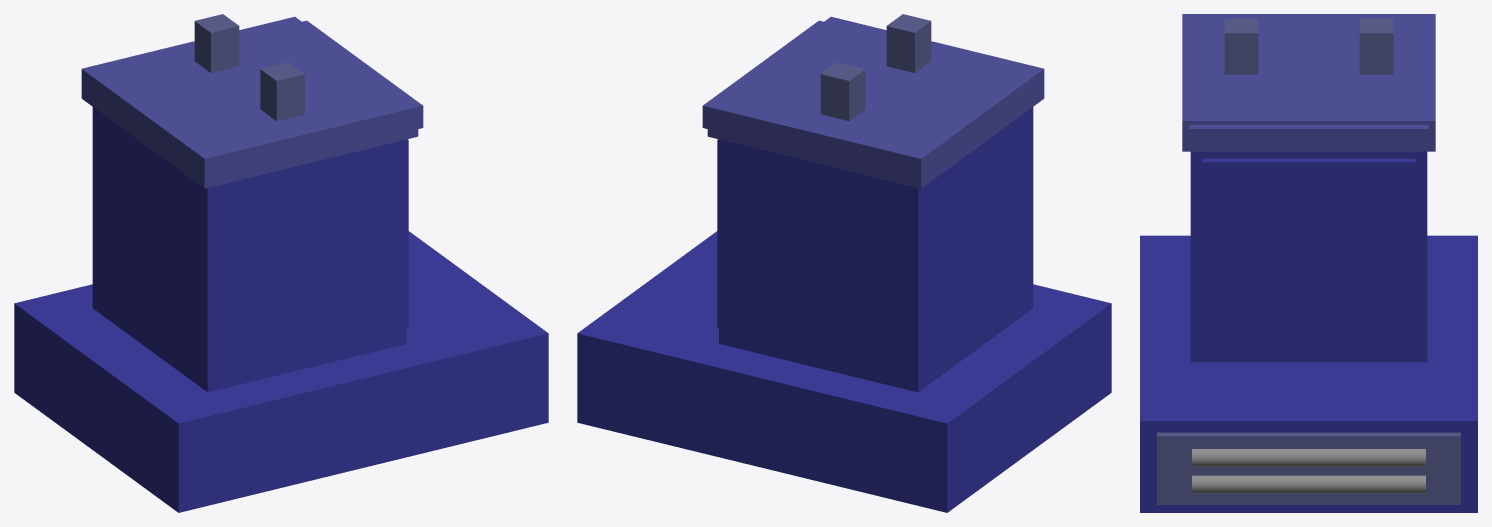
The model's file is newmoti.fbx.
3 renders of one model, left to right at view 1: azimuth 30°, elevation 25°; view 2: azimuth 150°, elevation 25°; view 3: azimuth 270°, elevation 25°, orthographic. The views are drawn at different scales.
Parts seen in each view (by area): view 1: pCube1, pCube10, pCube3, pCube8, pCube7, pCube12; view 2: pCube1, pCube10, pCube3, pCube7, pCube8, pCube12; view 3: pCube13, pCube1, pCube3, pCube11, pCube10, pCube12, pCylinder1, pCylinder2, pCube7, pCube8.
Boxes of the visible parts, x1,y1,x2,y2 form: pCube1: (14, 231, 548, 512); pCube10: (92, 107, 406, 392); pCube3: (81, 16, 418, 188); pCube8: (260, 62, 305, 121); pCube7: (194, 14, 239, 72); pCube12: (302, 20, 423, 128); pCube1: (577, 231, 1111, 512); pCube10: (719, 107, 1033, 392); pCube3: (707, 16, 1044, 188); pCube7: (820, 62, 865, 121); pCube8: (886, 14, 931, 72); pCube12: (702, 20, 823, 128); pCube13: (1202, 158, 1415, 355); pCube1: (1140, 235, 1477, 512); pCube3: (1182, 14, 1435, 151); pCube11: (1157, 432, 1460, 504); pCube10: (1190, 151, 1427, 362); pCube12: (1189, 124, 1428, 151); pCylinder1: (1192, 475, 1425, 493); pCylinder2: (1192, 449, 1425, 466); pCube7: (1359, 19, 1393, 74); pCube8: (1224, 19, 1258, 74).
Bounding box in the file's own units: 13.5 × 12.35 × 10.
